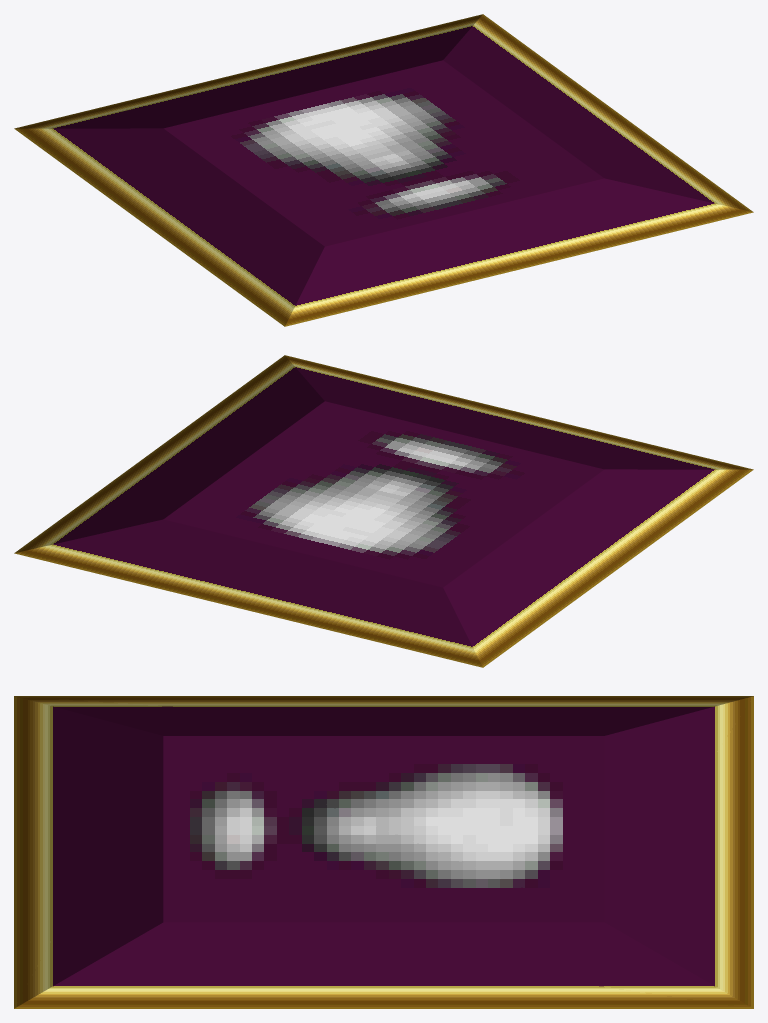
File: purpswitchcoll.fbx
3 views of the same model, one above another, from view 1: azimuth 30°, elevation 25°; view 2: azimuth 150°, elevation 25°; view 3: azimuth 270°, elevation 25° (orthographic). The views are drawn at different scales.
Parts seen in each view (by area): view 1: meshMesh0_1; view 2: meshMesh0_1; view 3: meshMesh0_1.
Boxes of the visible parts, x1,y1,x2,y2 form: meshMesh0_1: (14,14,753,326); meshMesh0_1: (14,355,753,667); meshMesh0_1: (14,696,753,1008).
Bounding box in the file's own units: 203 × 7.06 × 203.
